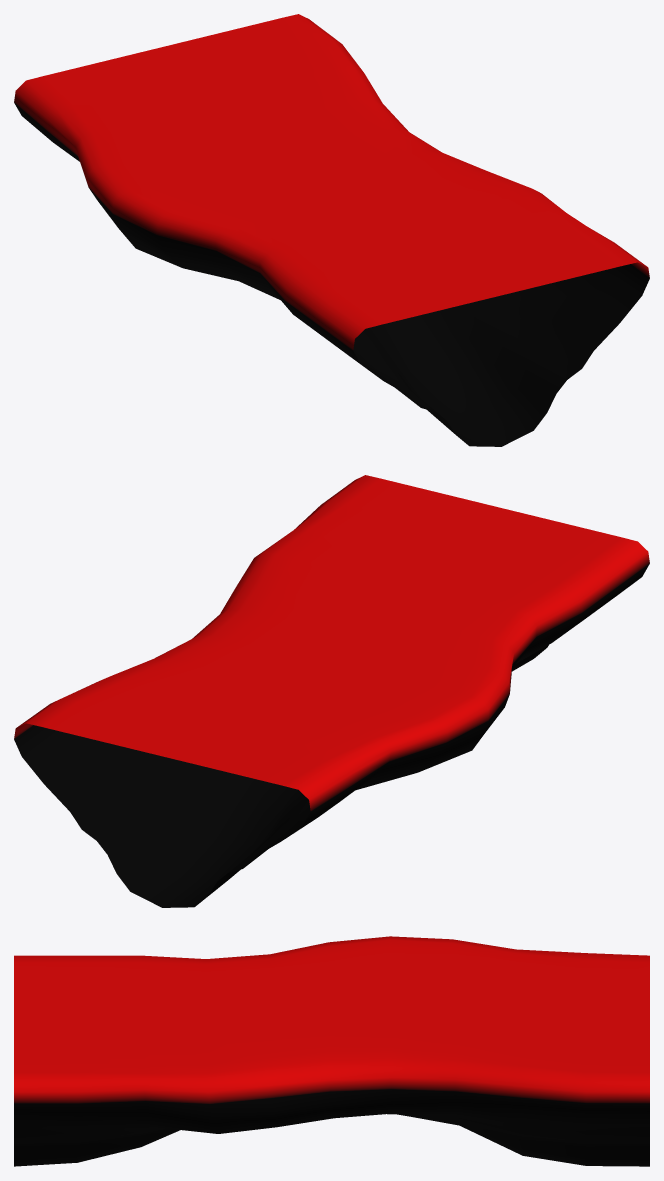
Rendered from CrossingCliff01C 1M Foreground.fbx.
The picture shows the model from 3 angles, top to bottom: view 1: azimuth 30°, elevation 25°; view 2: azimuth 150°, elevation 25°; view 3: azimuth 270°, elevation 25°; orthographic projection. The views are drawn at different scales.
Visible parts, largest first — view 1: CrossingCliff01C 1M Foreground; view 2: CrossingCliff01C 1M Foreground; view 3: CrossingCliff01C 1M Foreground.
Part boxes in pixels (<box>): CrossingCliff01C 1M Foreground: <box>14,14,649,446</box>; CrossingCliff01C 1M Foreground: <box>14,475,649,907</box>; CrossingCliff01C 1M Foreground: <box>14,936,649,1166</box>.
Bounding box in the file's own units: 1.15 × 0.4931 × 2.
